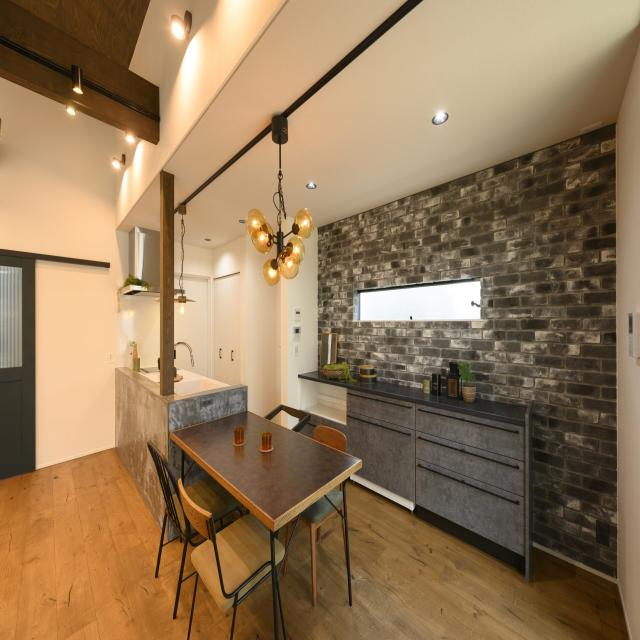vintage chair: (175, 474, 279, 632), (142, 439, 200, 622)
vintage desk: (166, 408, 354, 634)
